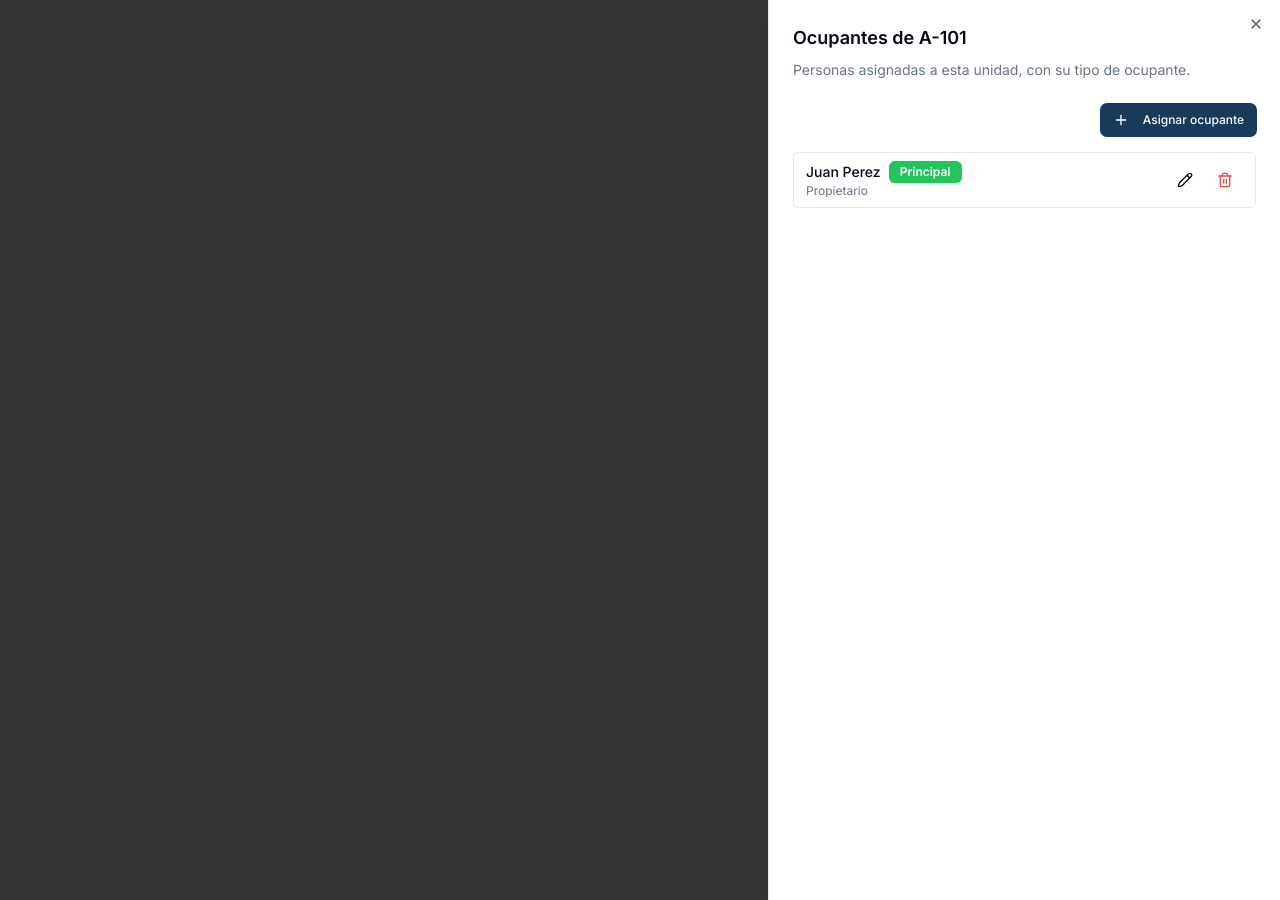
Test: OcupantesSheet › muestra 'Sin resultados' con enlace a crear contacto cuando la búsqueda no encuentra nada
Click the button "Asignar ocupante" at (1178, 120), box [1101, 104, 1256, 136]
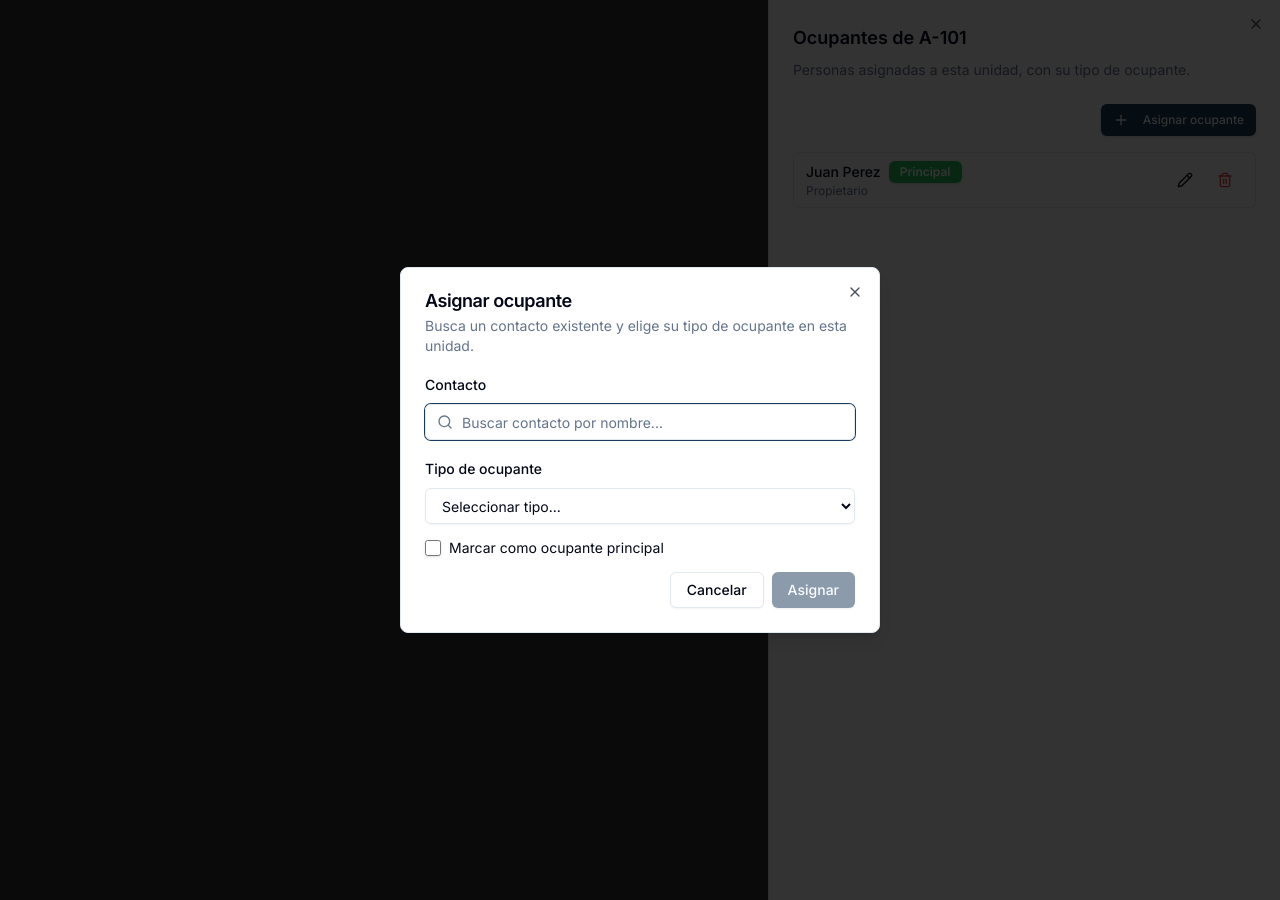
Type "Nadie" into the field with placeholder "Buscar contacto por nombre..." at (640, 422), box [425, 404, 855, 440]
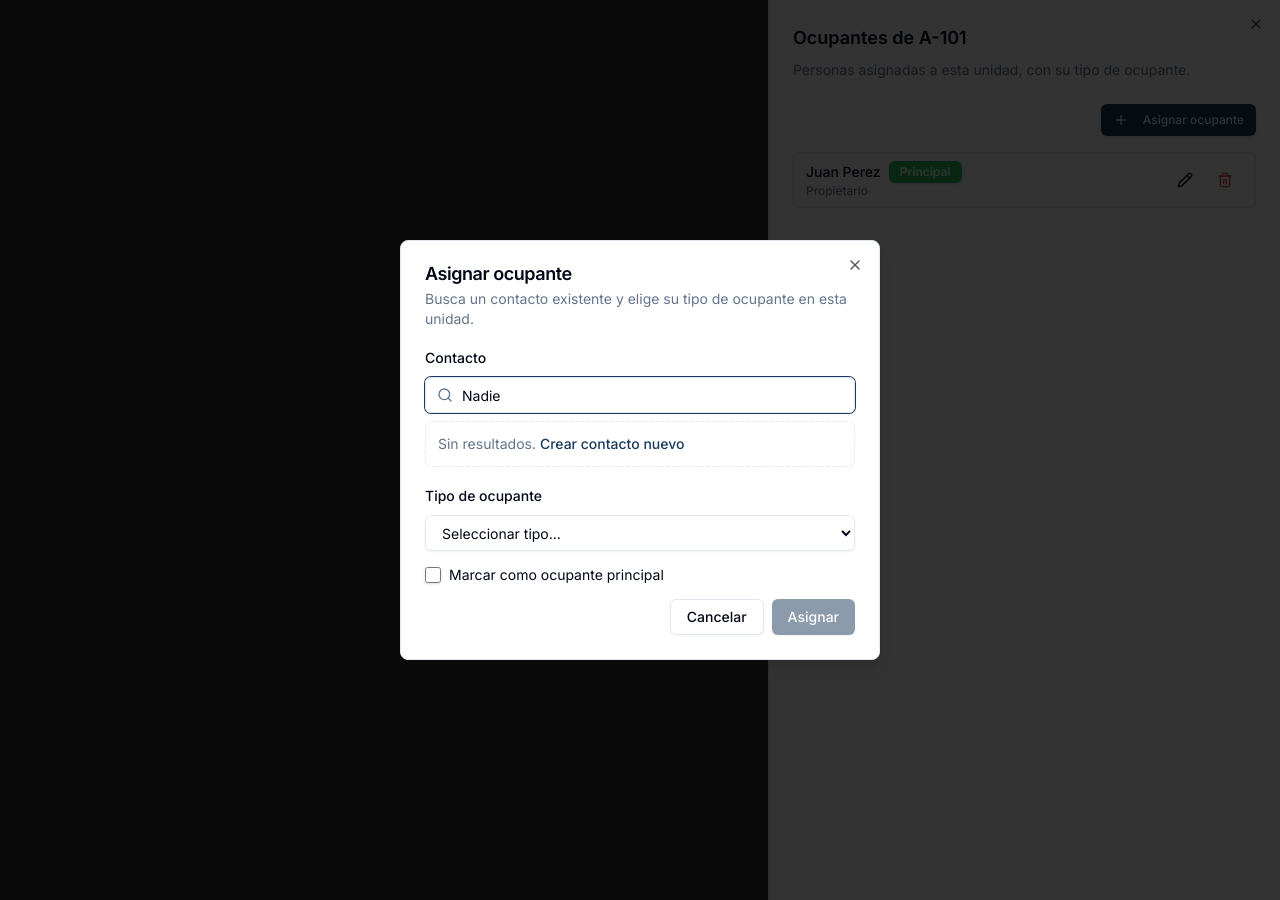
Check: the text "Sin resultados. Crear contacto nuevo" is shown, box [425, 421, 855, 467]
